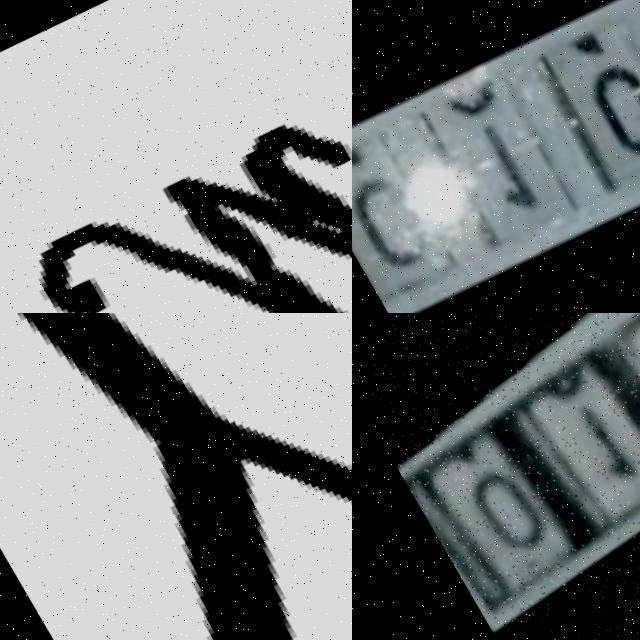0: (439, 450, 559, 578), (556, 41, 640, 169), (352, 158, 434, 286)
1: (444, 109, 553, 230), (542, 384, 640, 498)
M: (112, 70, 352, 313)
Y: (0, 313, 352, 640)
